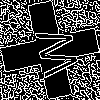W: (25, 25, 80, 81)
